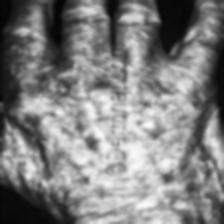Potentially Malignant Skin Tumors: (14, 84, 103, 188)
